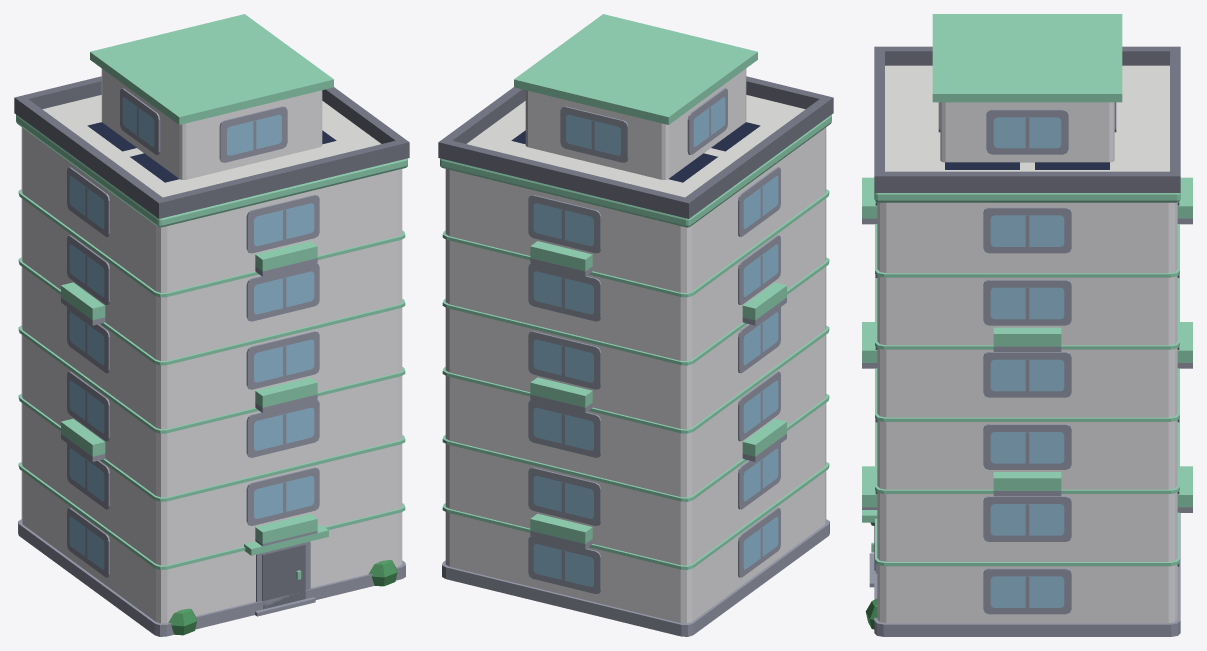
File: tower-1x1-6f-tone-a-solar.glb
3 views of the same model, side by side, from view 1: azimuth 30°, elevation 25°; view 2: azimuth 150°, elevation 25°; view 3: azimuth 270°, elevation 25° (orthographic). The views are drawn at different scales.
Parts seen in each view (by area): view 1: tower-1x1-6f-tone-a-solar; view 2: tower-1x1-6f-tone-a-solar; view 3: tower-1x1-6f-tone-a-solar.
Boxes of the visible parts, left/top/right/bottom form: tower-1x1-6f-tone-a-solar: left=14, top=14, right=409, bottom=636; tower-1x1-6f-tone-a-solar: left=438, top=14, right=833, bottom=636; tower-1x1-6f-tone-a-solar: left=862, top=14, right=1192, bottom=636.
Bounding box in the file's own units: 1.08 × 1.87 × 1.08.
Materials: 1 (1 with a texture image).
